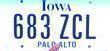placa de veiculo: (0, 0, 110, 49)
